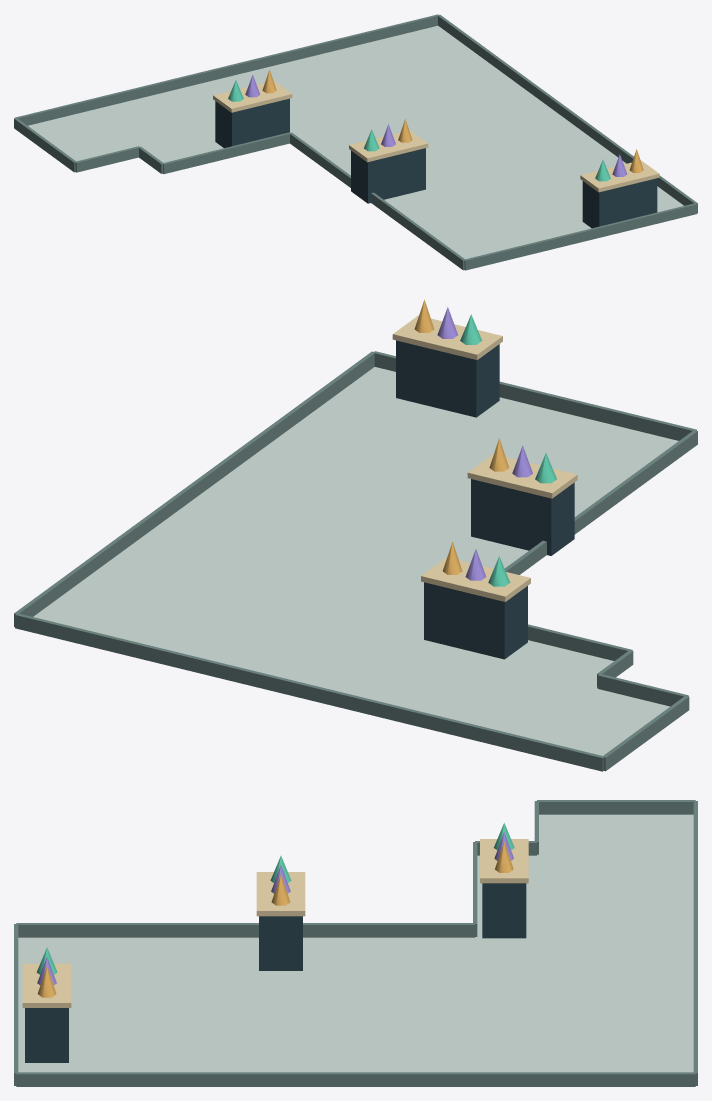
File: mineral-hall-tabletop.glb
The picture shows the model from 3 angles, top to bottom: view 1: azimuth 30°, elevation 25°; view 2: azimuth 150°, elevation 25°; view 3: azimuth 270°, elevation 25°; orthographic projection. The views are drawn at different scales.
Bounding box in the file's own units: 7.35 × 1.12 × 7.75.
